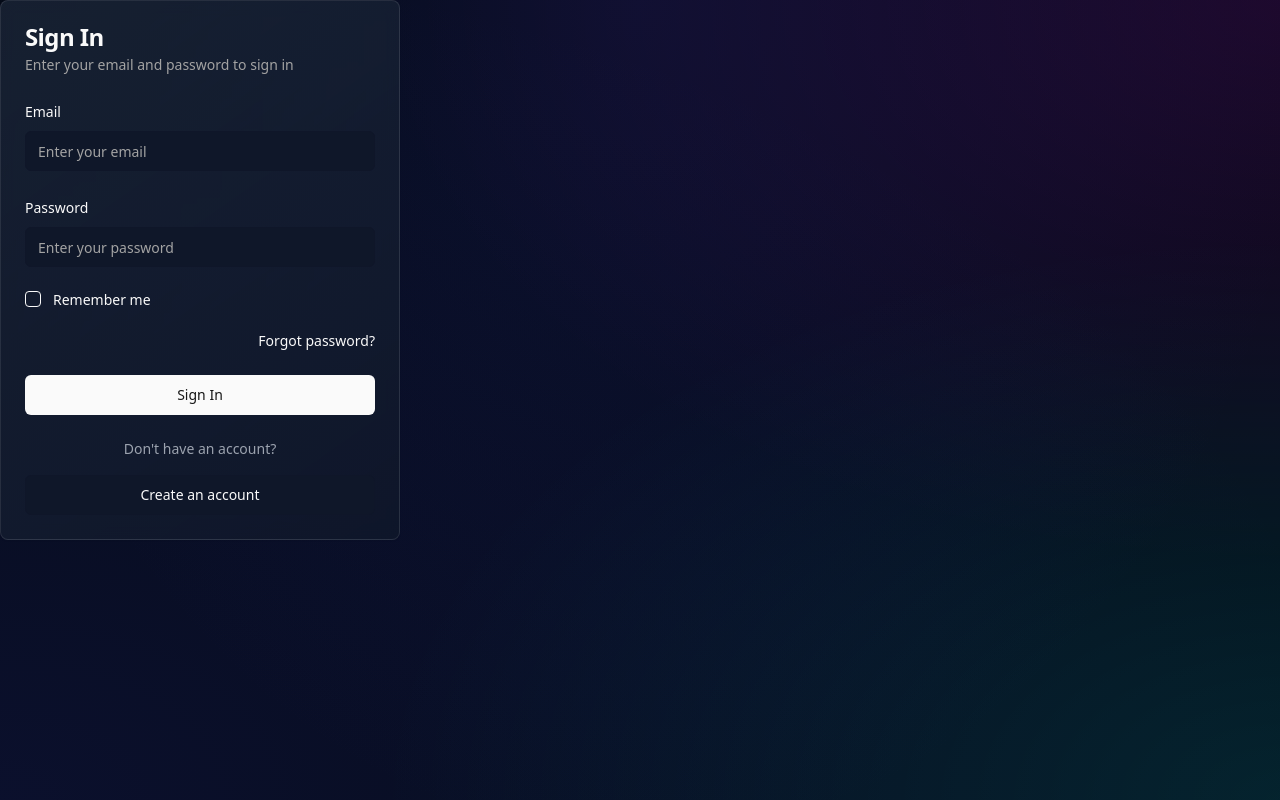
Test case: SignInForm › shows validation errors for empty fields
Click the button "Sign In" at [200, 395], box x1=25 y1=375 x2=375 y2=415
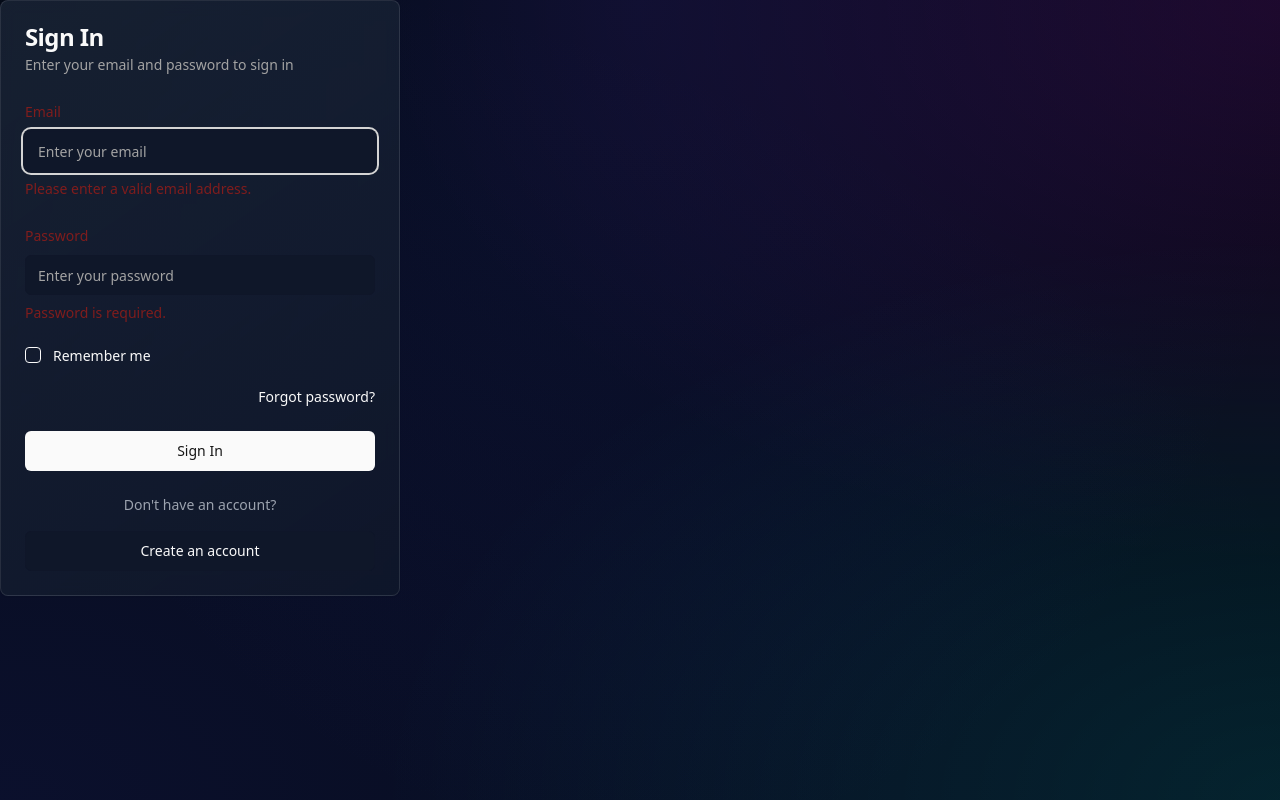
Check: the text "Please enter a valid email address." is shown, box x1=25 y1=179 x2=251 y2=198
Check: the text "Password is required." is shown, box x1=25 y1=303 x2=166 y2=322
